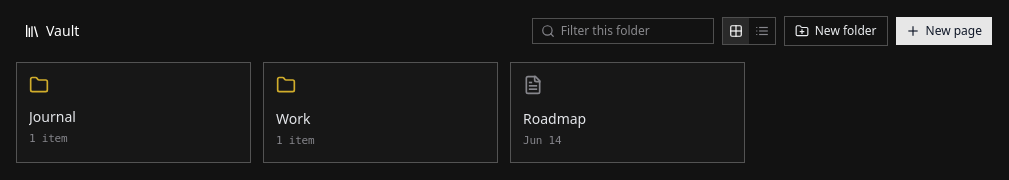
Test: VaultBrowserPane - layout and empty states › clears the filter from the field's own button
Step 1. Type "road" into the field with placeholder "Filter this folder" → (633, 31), box [561,23,705,39]
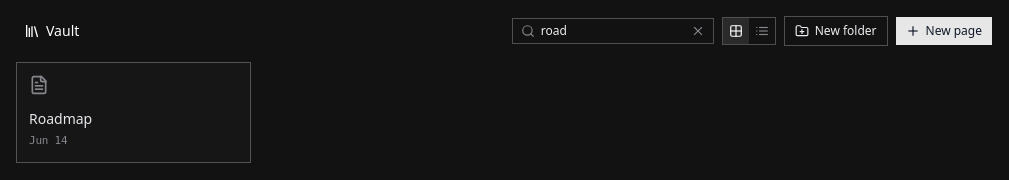
Result: the text "Work" is gone
Step 2. Click the button titled "Clear filter" → (698, 31), box [691,24,705,38]
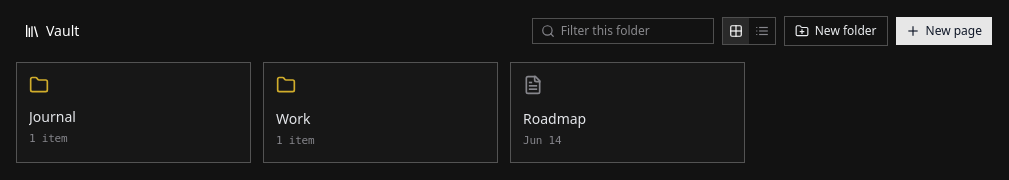
Result: the text "Work" is shown at [276,109,310,128]
